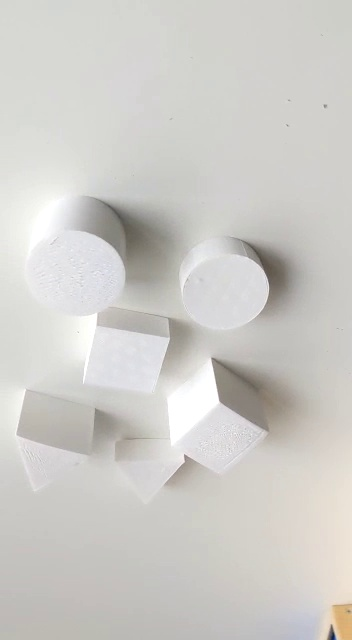Clyinder_short: (176, 235, 273, 333)
Cube: (164, 357, 275, 483)
Cube_short: (79, 302, 173, 400)
Cylinder: (21, 194, 128, 319)
Triangle: (13, 385, 99, 497)
Triangle_short: (108, 434, 192, 508)
